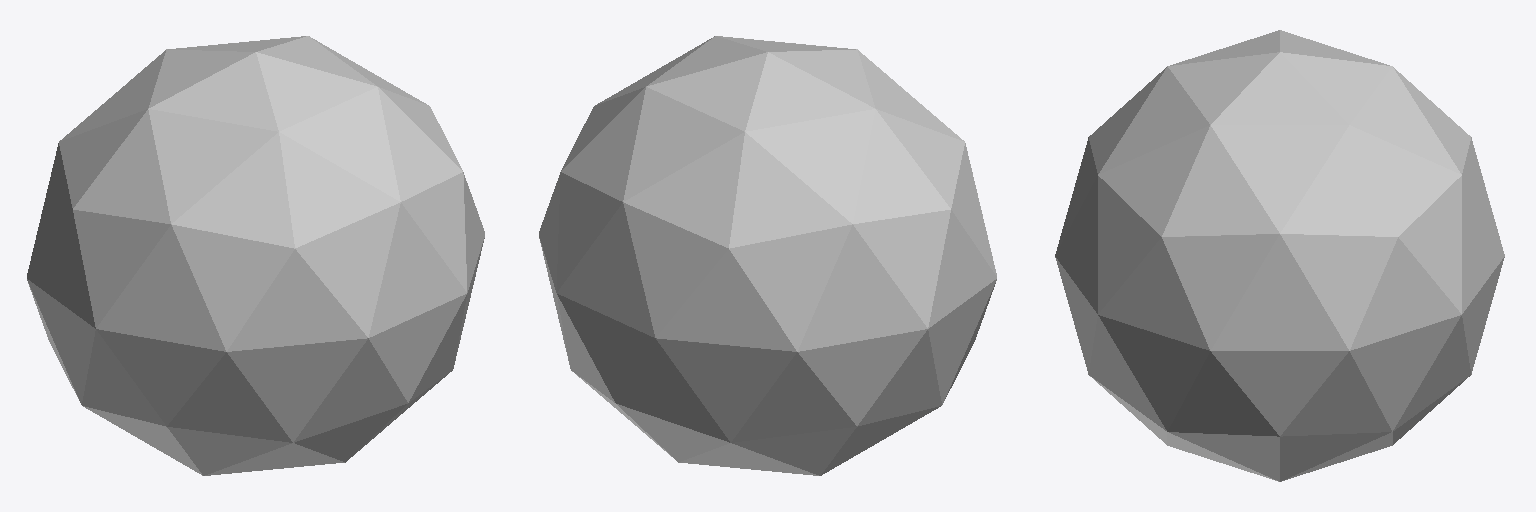
The model's file is bullet.obj.
3 renders of one model, left to right at view 1: azimuth 30°, elevation 25°; view 2: azimuth 150°, elevation 25°; view 3: azimuth 270°, elevation 25°, orthographic.
Parts seen in each view (by area): view 1: Bullet; view 2: Bullet; view 3: Bullet.
Boxes of the visible parts, x1,y1,x2,y2 form: Bullet: [27, 36, 484, 475]; Bullet: [539, 36, 996, 475]; Bullet: [1055, 30, 1504, 481].
Size of the model in its own units: 0.3 by 0.3 by 0.3.